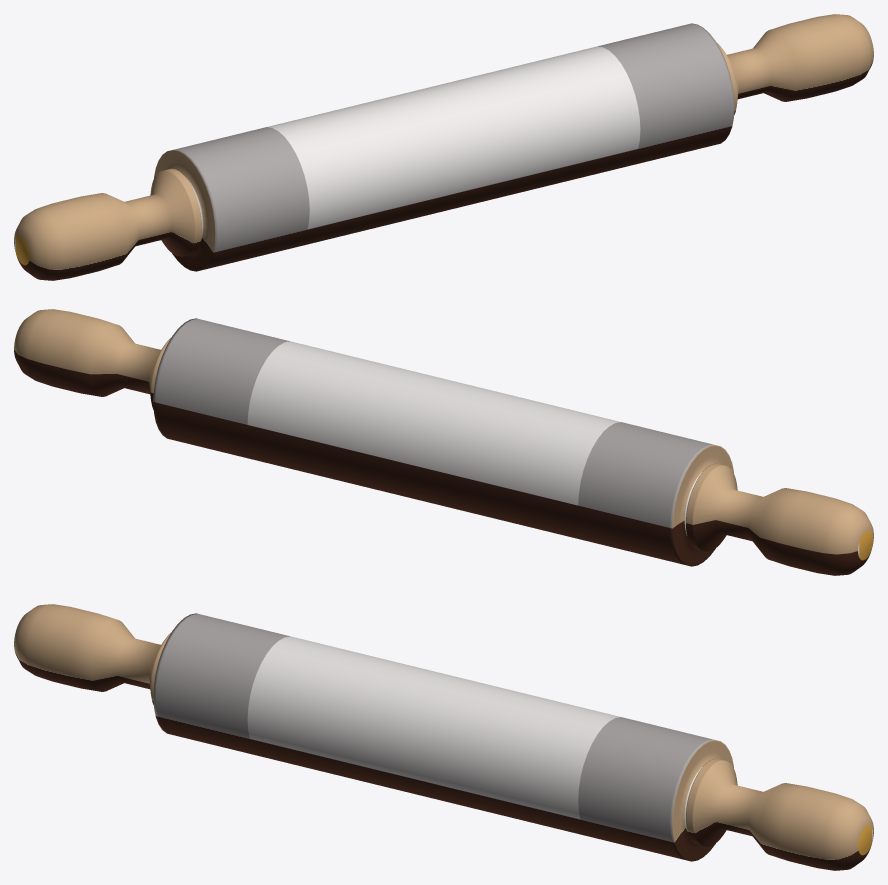
Rendered from bread roller.fbx.
The picture shows the model from 3 angles, top to bottom: view 1: azimuth 30°, elevation 25°; view 2: azimuth 150°, elevation 25°; view 3: azimuth 330°, elevation 25°; orthographic projection.
Parts seen in each view (by area): view 1: Cylinder; view 2: Cylinder; view 3: Cylinder.
Part boxes in pixels (x1,y1,x2,y2): Cylinder: [14, 14, 873, 280]; Cylinder: [14, 309, 873, 575]; Cylinder: [14, 604, 873, 870].
Size of the model in its own units: 835 by 107 by 107.
